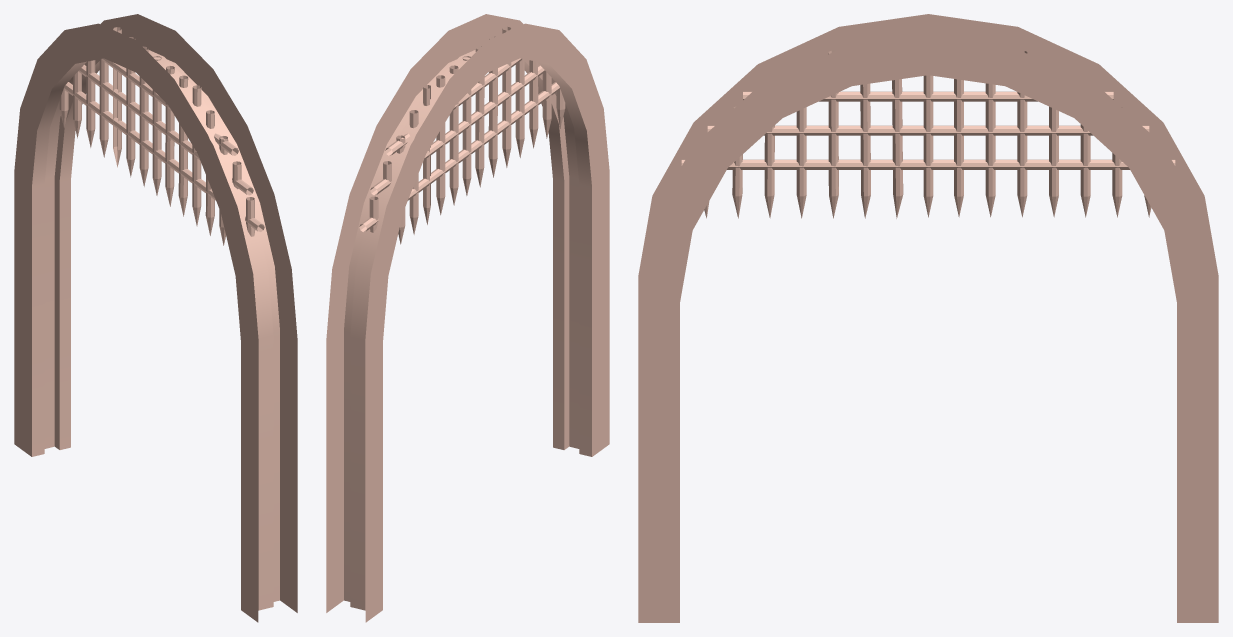
The model's file is GateOpen.obj.
3 renders of one model, left to right at view 1: azimuth 30°, elevation 25°; view 2: azimuth 150°, elevation 25°; view 3: azimuth 270°, elevation 25°, orthographic. The views are drawn at different scales.
Parts seen in each view (by area): view 1: group223_polySurface2.001_Untitled.001, group223_polySurface2_Untitled; view 2: group223_polySurface2.001_Untitled.001, group223_polySurface2_Untitled; view 3: group223_polySurface2.001_Untitled.001, group223_polySurface2_Untitled.
Boxes of the visible parts, <box> form: group223_polySurface2.001_Untitled.001: <box>14,14,297,622</box>; group223_polySurface2_Untitled: <box>59,27,264,245</box>; group223_polySurface2.001_Untitled.001: <box>326,14,609,622</box>; group223_polySurface2_Untitled: <box>359,26,565,244</box>; group223_polySurface2.001_Untitled.001: <box>638,14,1218,622</box>; group223_polySurface2_Untitled: <box>681,50,1175,218</box>.
Size of the model in its own units: 0.8589 by 10.31 by 9.25.
2 materials, 2 textured.
